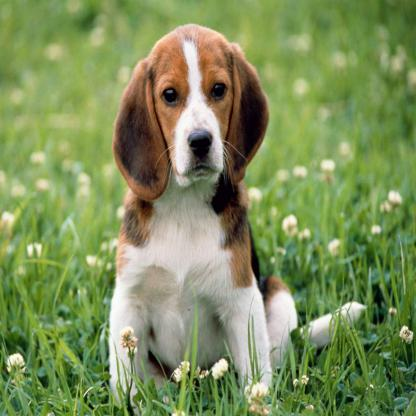Bigl: (102, 19, 368, 409)
